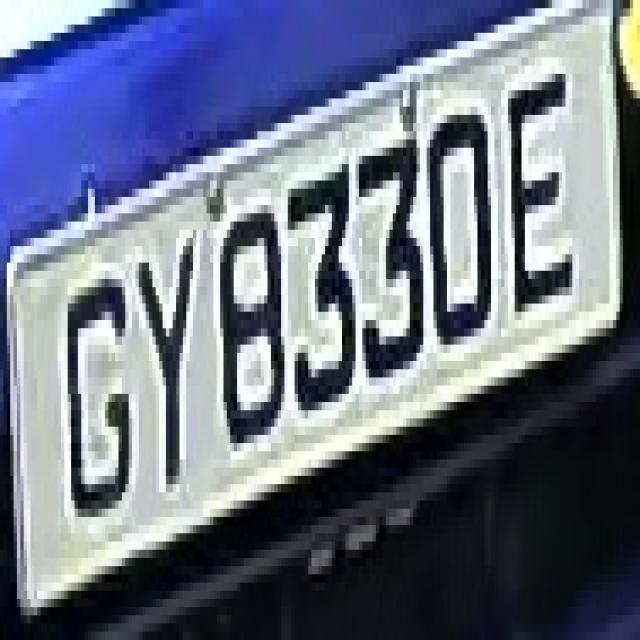0: (423, 90, 501, 353)
3: (356, 98, 430, 394), (281, 148, 362, 418)
8: (210, 180, 295, 476)
E: (508, 41, 576, 345)
G: (58, 262, 142, 550)
Y: (136, 205, 207, 492)
